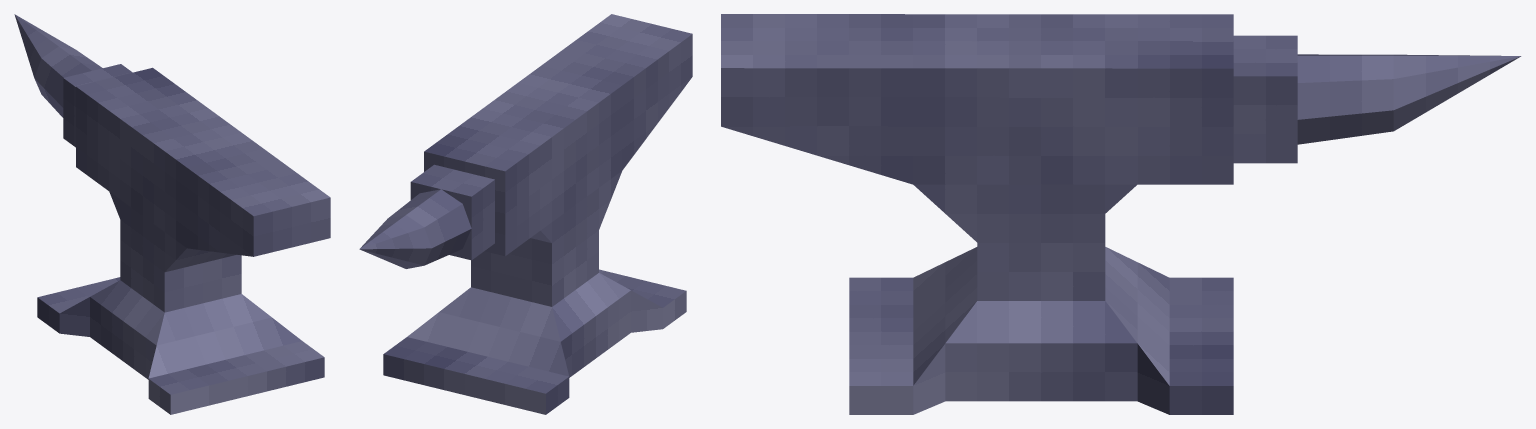
File: anvil_ferrouranium.obj
3 renders of one model, left to right at view 1: azimuth 30°, elevation 25°; view 2: azimuth 150°, elevation 25°; view 3: azimuth 270°, elevation 25°, orthographic. The views are drawn at different scales.
Parts seen in each view (by area): view 1: Left, Top, Back; view 2: Left, Top, Front; view 3: Right, Top, Front, Back.
Boxes of the visible parts, <box> form: Left: <box>15,15,253,414</box>; Top: <box>14,14,330,394</box>; Back: <box>148,197,330,414</box>; Left: <box>360,34,692,414</box>; Top: <box>360,14,692,393</box>; Front: <box>383,151,569,414</box>; Right: <box>721,56,1520,414</box>; Top: <box>721,14,1520,385</box>; Front: <box>1105,247,1169,385</box>; Back: <box>913,247,977,385</box>.
Bounding box in the file's own units: 0.5 × 0.6885 × 1.56.
